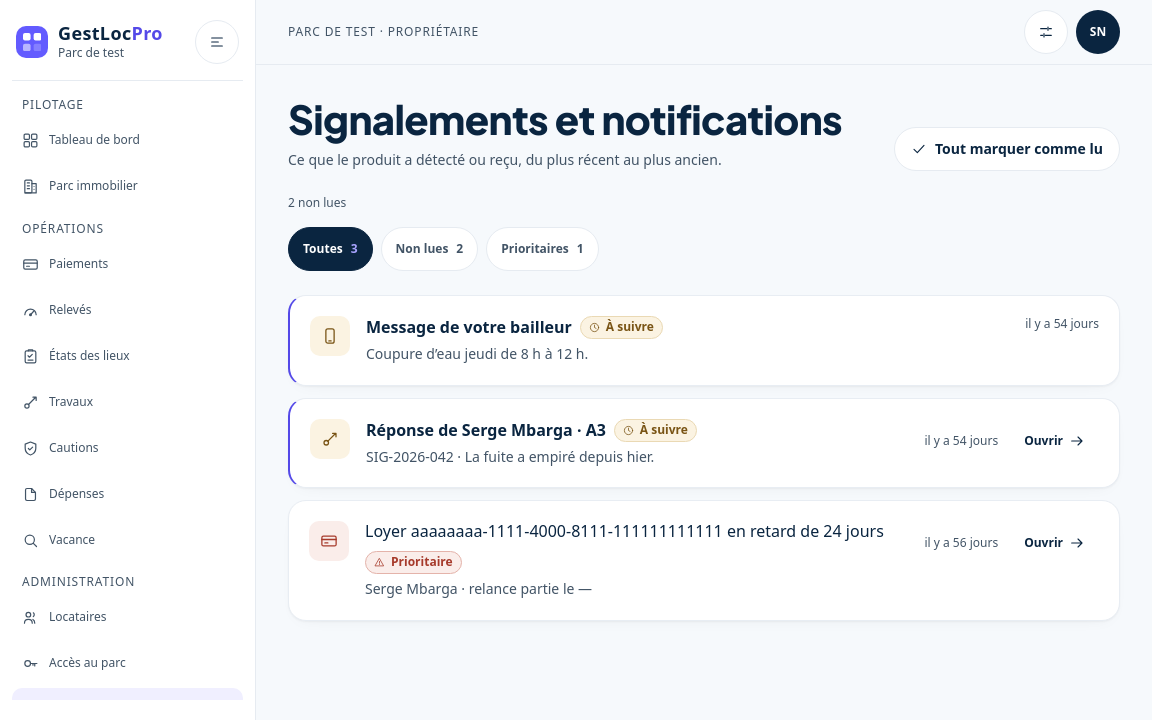
Test: l’état « lu » d’une notification › n’envoie au serveur que les identifiants non lus
Expected: the text "Coupure d’eau jeudi de 8 h à 12 h." is shown, [366, 344, 588, 363]
Click the button "Tout marquer comme lu" at (1007, 149), box [894, 127, 1120, 171]
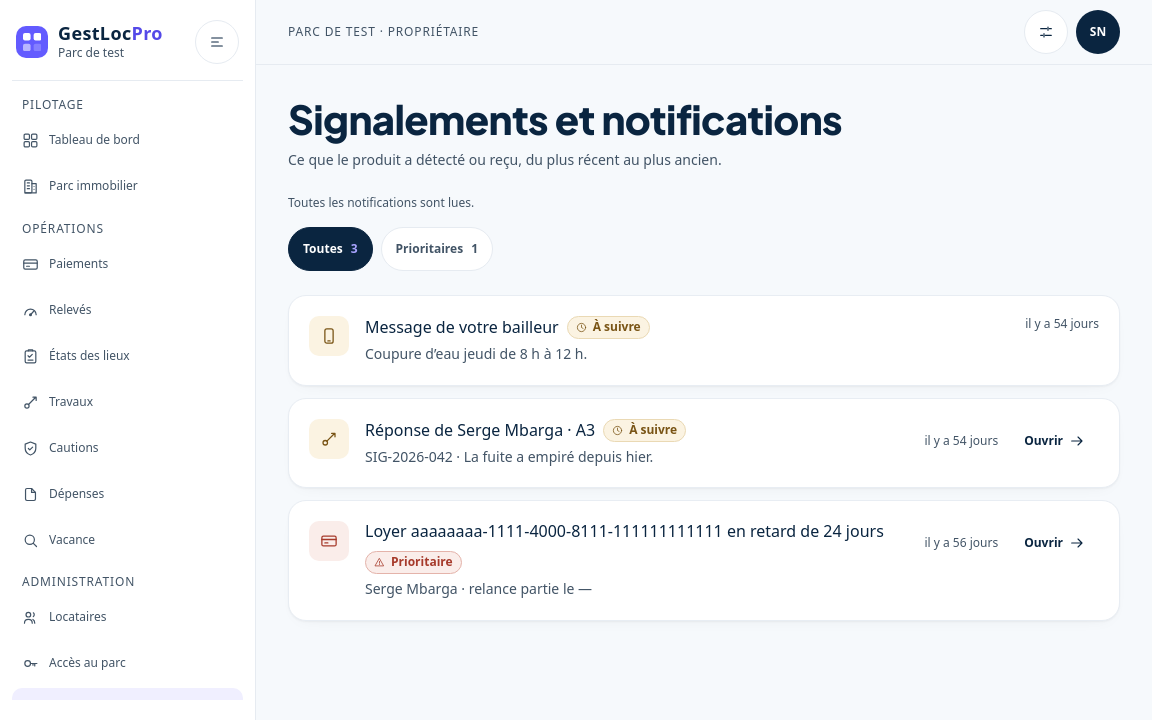
Now the text "Toutes les notifications sont lues." is shown, box [288, 194, 474, 211]
